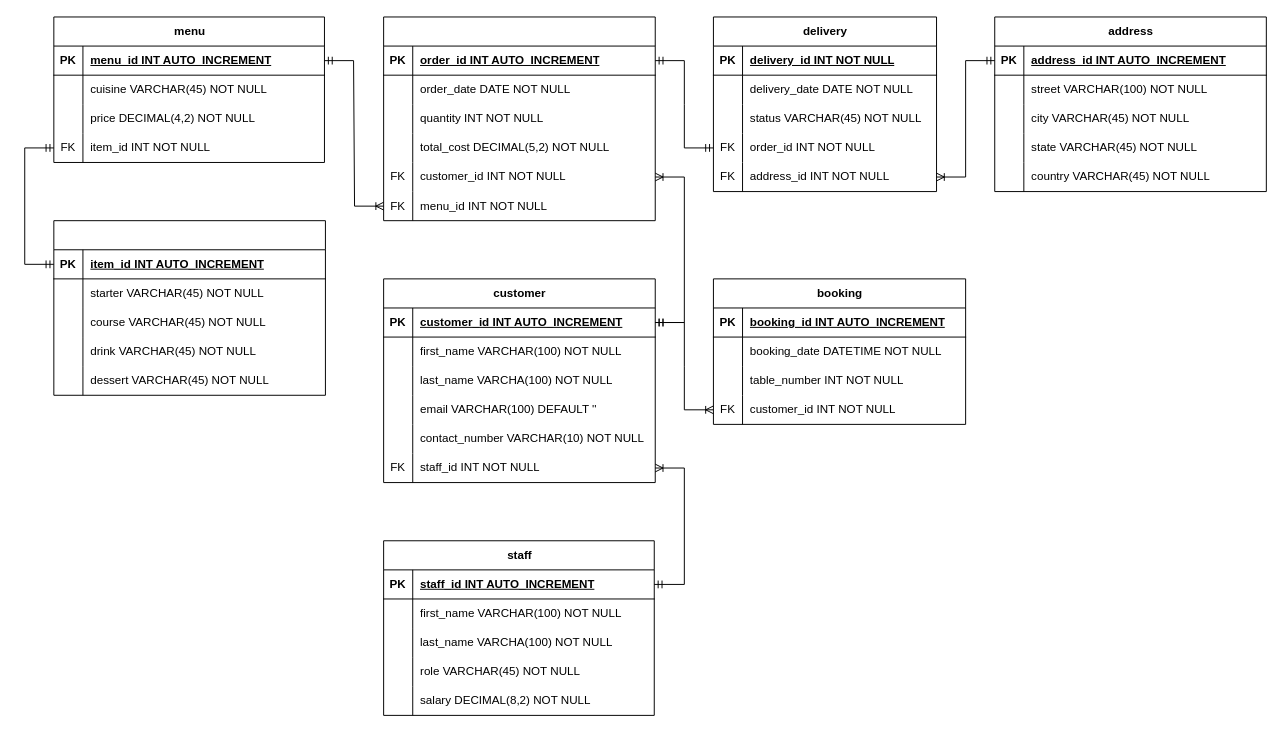
Some shapes in this 1283 by 732 pixel diagram are drawn without their labels. The box of each missing label's shape, as (x1, y1, x2, y2) in pixels:
customer_order: (383, 16, 655, 221)
menu_item: (53, 220, 325, 395)
